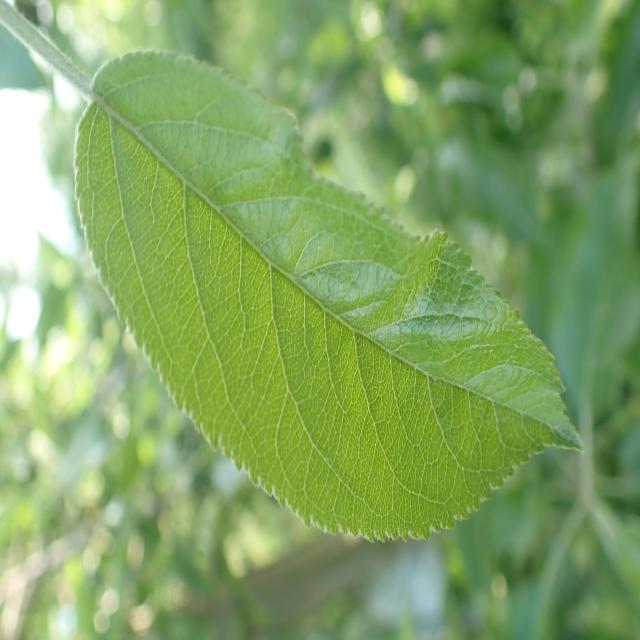healthy: (74, 48, 583, 544)
